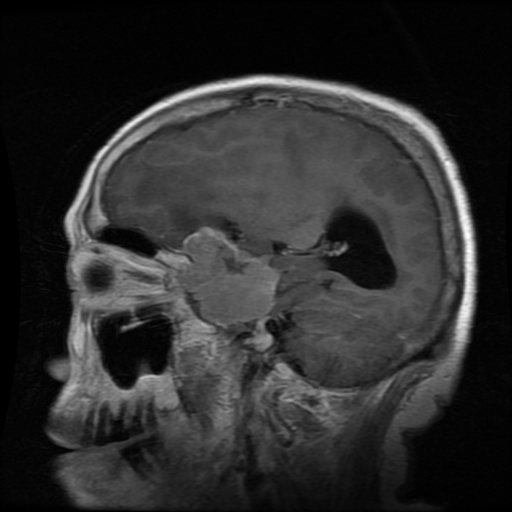meningioma: (170, 225, 278, 322)
